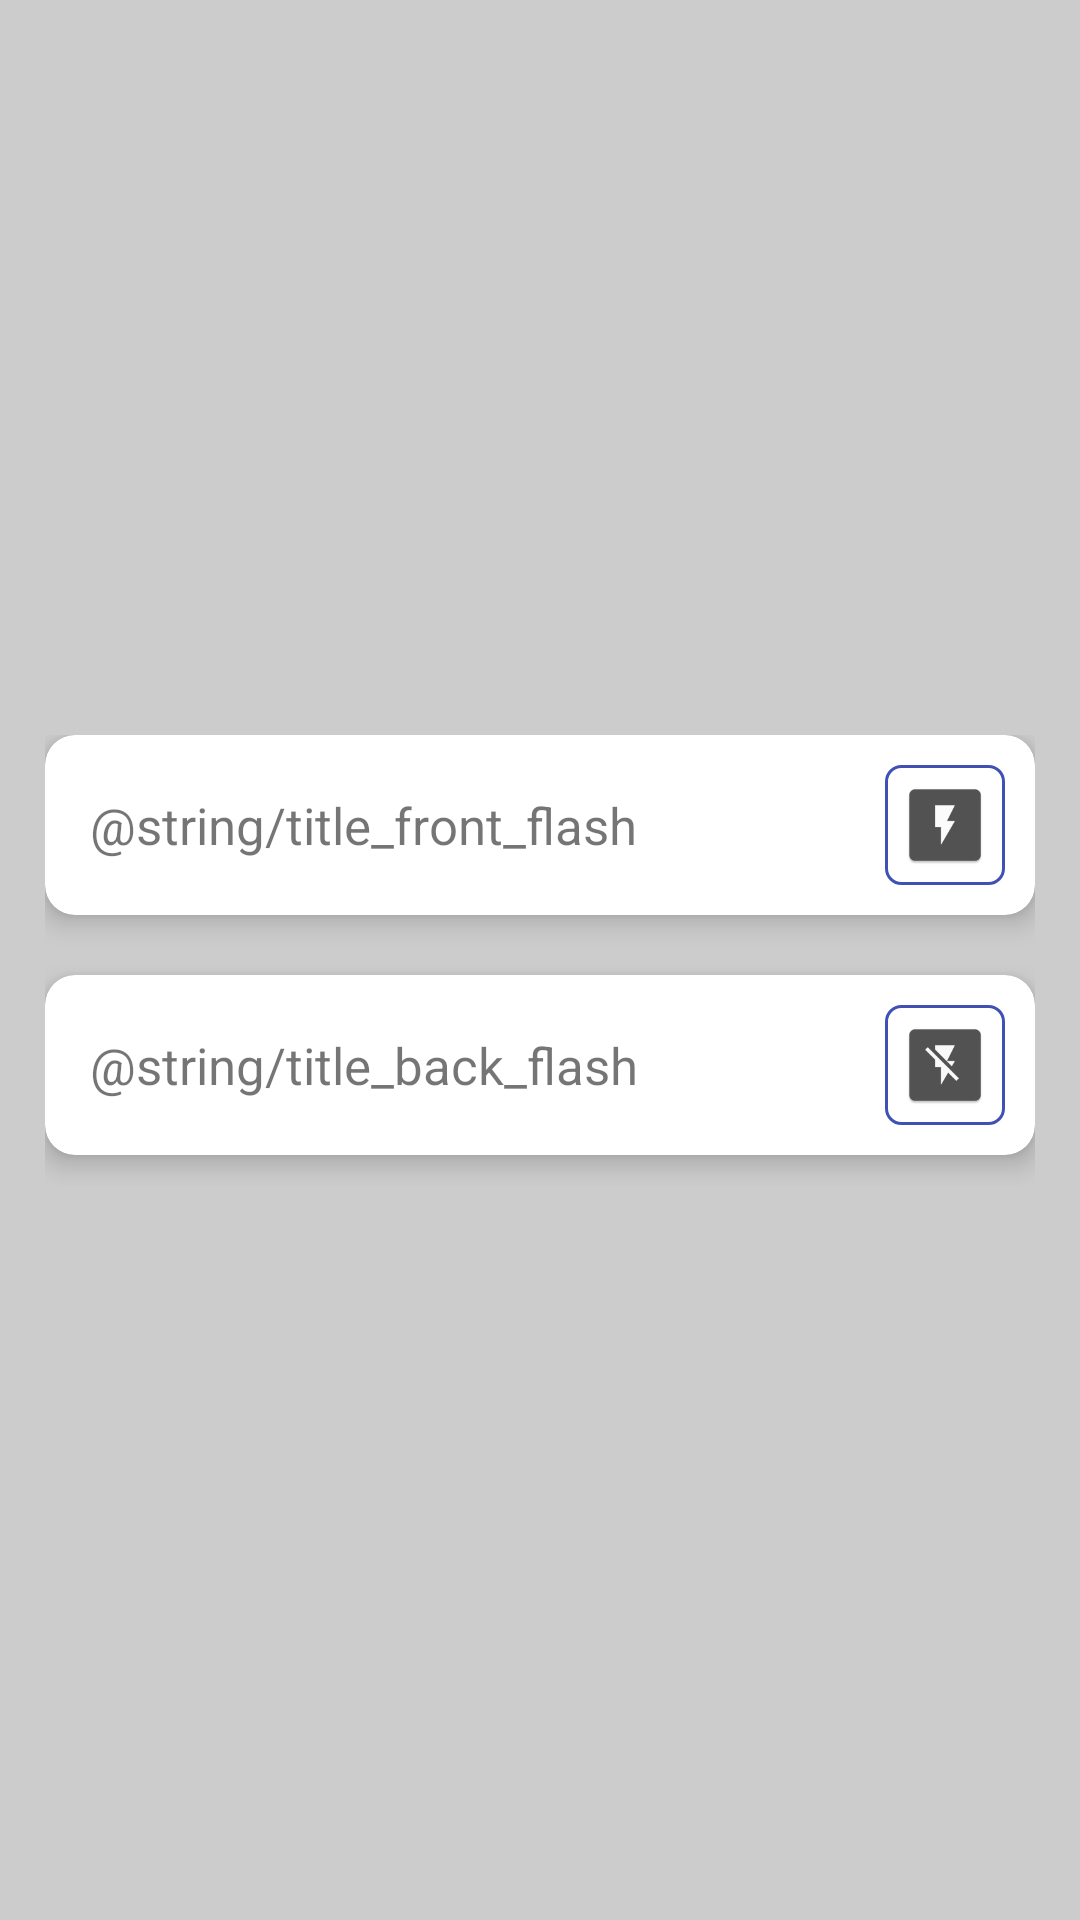

Where icons sit on this 1080×1920 app screen, as Rect(x1, y1, x2, y2):
flashoff: Rect(885, 1005, 1005, 1125)
flashon: Rect(885, 765, 1005, 885)
